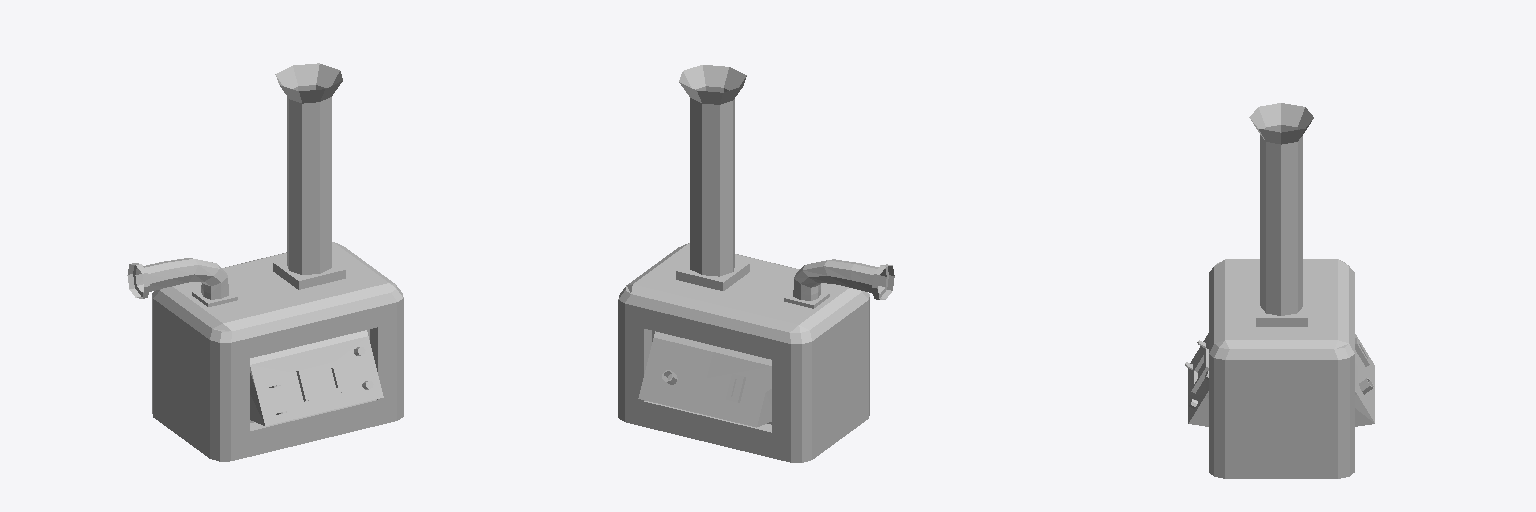
The model's file is Sistema_Oxigeno.obj.
The picture shows the model from 3 angles: view 1: azimuth 30°, elevation 25°; view 2: azimuth 150°, elevation 25°; view 3: azimuth 270°, elevation 25°; orthographic projection.
Visible parts, largest first — view 1: group5 pCube37, group5 Base_Bateria; view 2: group5 pCube37; view 3: group5 pCube37.
Part boxes in pixels (bbox=[...]): group5 pCube37: bbox=[127, 63, 403, 461]; group5 Base_Bateria: bbox=[296, 362, 343, 401]; group5 pCube37: bbox=[618, 65, 894, 462]; group5 pCube37: bbox=[1188, 103, 1374, 478].
Size of the model in its own units: 238 by 314 by 165.